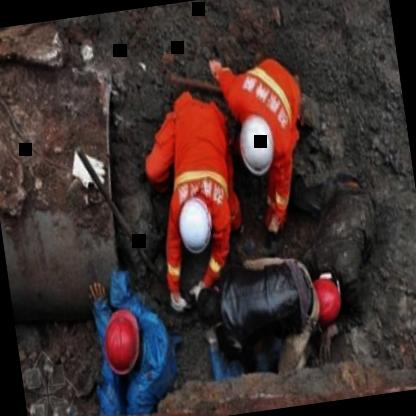helmet: (99, 304, 149, 375), (170, 194, 219, 262), (235, 118, 280, 180), (305, 274, 344, 329)
